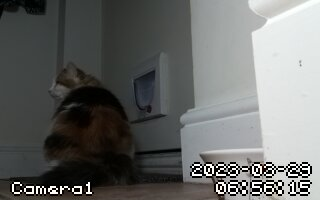clara: (41, 61, 144, 188)
